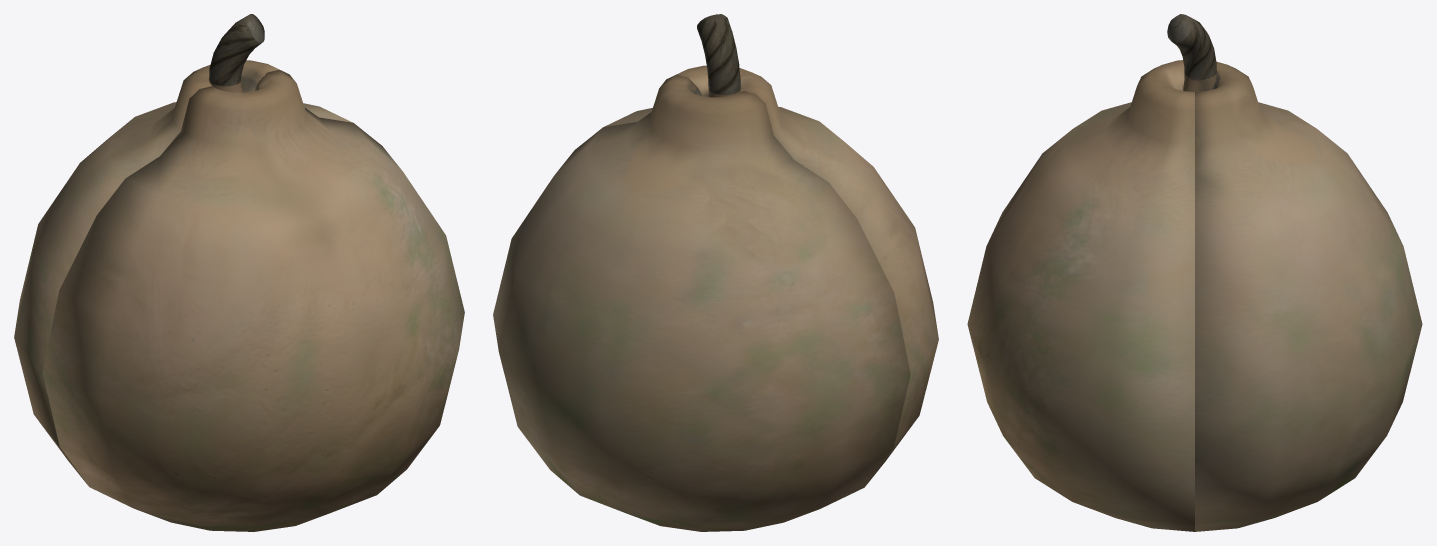
Rendered from bakcrack.fbx.
3 views of the same model, side by side, from view 1: azimuth 30°, elevation 25°; view 2: azimuth 150°, elevation 25°; view 3: azimuth 270°, elevation 25° (orthographic).
Parts seen in each view (by area): view 1: bakapart, bakapart.002; view 2: bakapart.002, bakapart; view 3: bakapart.002, bakapart.
Boxes of the visible parts, <box> form: bakapart: <box>42,69,464,531</box>; bakapart.002: <box>14,14,352,483</box>; bakapart.002: <box>493,14,910,531</box>; bakapart: <box>603,65,938,485</box>; bakapart.002: <box>1167,14,1422,531</box>; bakapart: <box>967,60,1194,531</box>.
Size of the model in its own units: 94.6 by 108 by 94.6.
